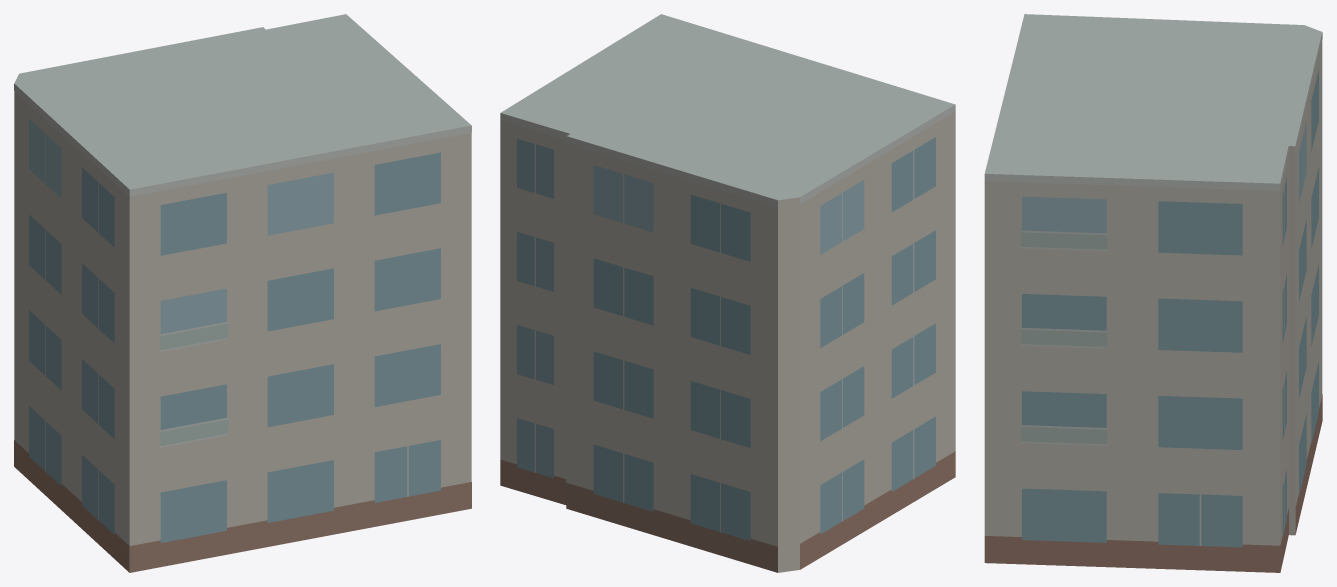
Rendered from survey-upis-33021947.glb.
3 views of the same model, side by side, from view 1: azimuth 30°, elevation 25°; view 2: azimuth 150°, elevation 25°; view 3: azimuth 270°, elevation 25° (orthographic). The views are drawn at different scales.
Parts seen in each view (by area): view 1: survey-upis-33021947.tmp; view 2: survey-upis-33021947.tmp; view 3: survey-upis-33021947.tmp.
Part boxes in pixels (x1,y1,x2,y2): survey-upis-33021947.tmp: (14,14,471,572); survey-upis-33021947.tmp: (500,14,955,572); survey-upis-33021947.tmp: (984,14,1322,572).
Size of the model in its own units: 12.12 by 12.95 by 10.2.
